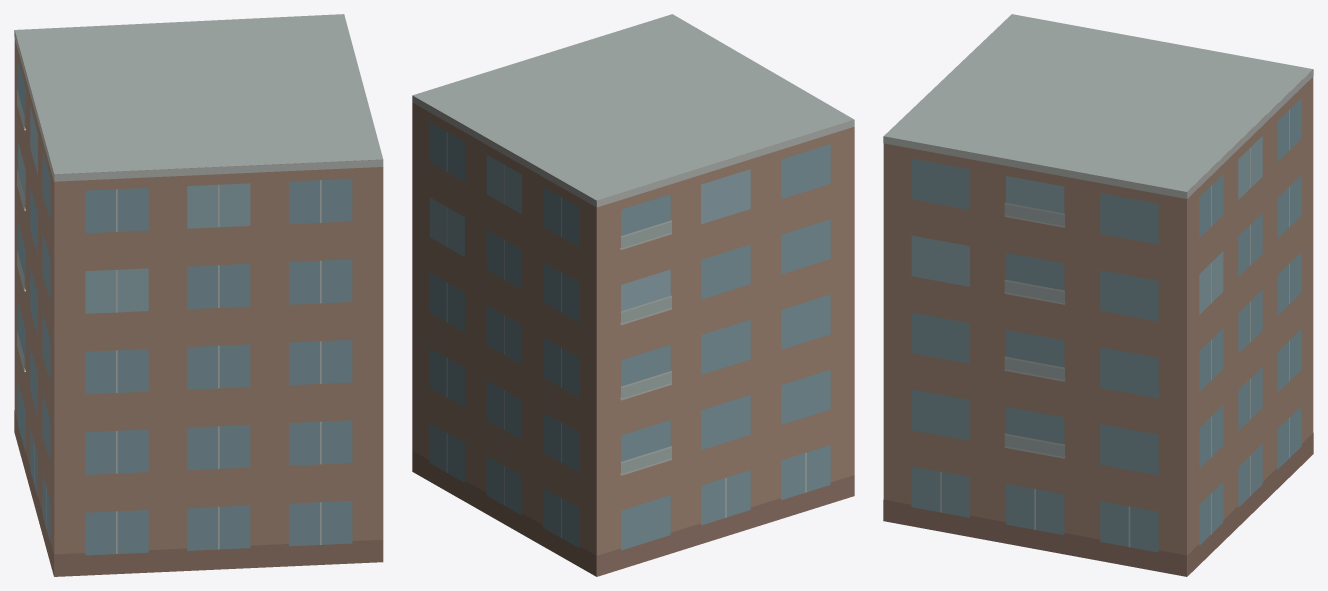
Rendered from survey-upis-32961208.glb.
3 views of the same model, side by side, from view 1: azimuth 30°, elevation 25°; view 2: azimuth 150°, elevation 25°; view 3: azimuth 270°, elevation 25° (orthographic). The views are drawn at different scales.
Parts seen in each view (by area): view 1: survey-upis-32961208.tmp; view 2: survey-upis-32961208.tmp; view 3: survey-upis-32961208.tmp.
Boxes of the visible parts, box(x1,y1,x2,y2) form: survey-upis-32961208.tmp: box(14, 14, 383, 576); survey-upis-32961208.tmp: box(412, 14, 854, 576); survey-upis-32961208.tmp: box(883, 14, 1313, 576).
Size of the model in its own units: 13.1 by 13.2 by 13.37.
